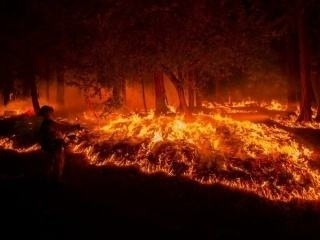fire: (12, 65, 319, 192)
